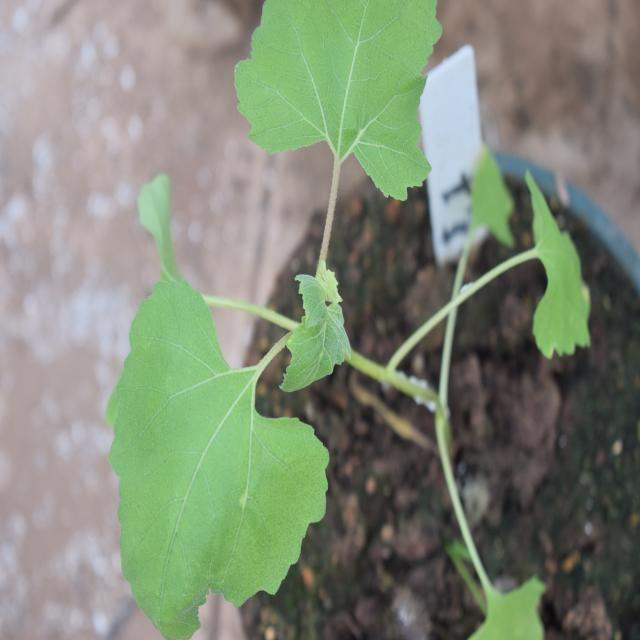cocklebur: (115, 8, 477, 602)
